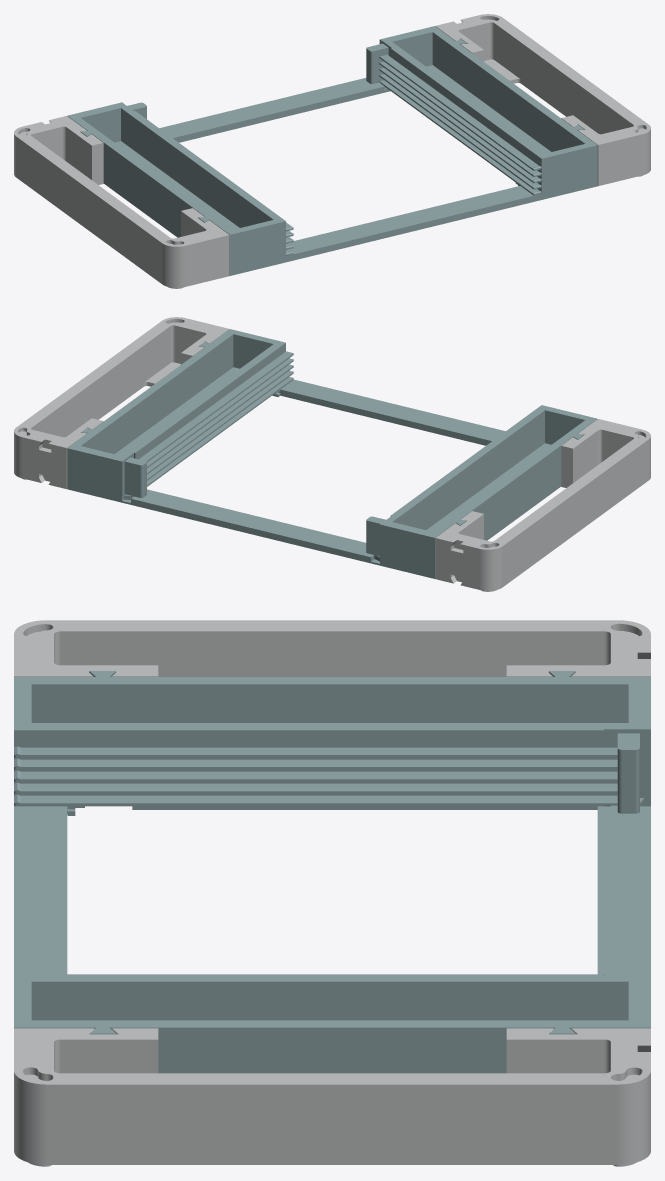
The model's file is layer-assembly.glb.
3 views of the same model, one above another, from view 1: azimuth 30°, elevation 25°; view 2: azimuth 150°, elevation 25°; view 3: azimuth 270°, elevation 25° (orthographic). The views are drawn at different scales.
Parts seen in each view (by area): view 1: A02, A01, A05, A06, A03, A04; view 2: A02, A01, A05, A06, A04, A03; view 3: A01, A06, A02, A05, A03, A04.
Boxes of the visible parts, x1,y1,x2,y2 form: A02: (366,26,597,201); A01: (67,102,293,275); A05: (14,116,229,288); A06: (435,14,650,186); A03: (289,186,533,260); A04: (159,78,385,142); A02: (67,329,293,504); A01: (366,405,597,578); A05: (435,419,650,591); A06: (14,317,229,489); A04: (124,489,379,563); A03: (278,379,505,445); A01: (14,671,650,815); A06: (14,1028,650,1166); A02: (14,963,650,1073); A05: (14,620,650,676); A03: (14,806,67,974); A04: (597,798,650,975).
Bounding box in the file's own units: 0.495 × 0.043 × 0.287.
